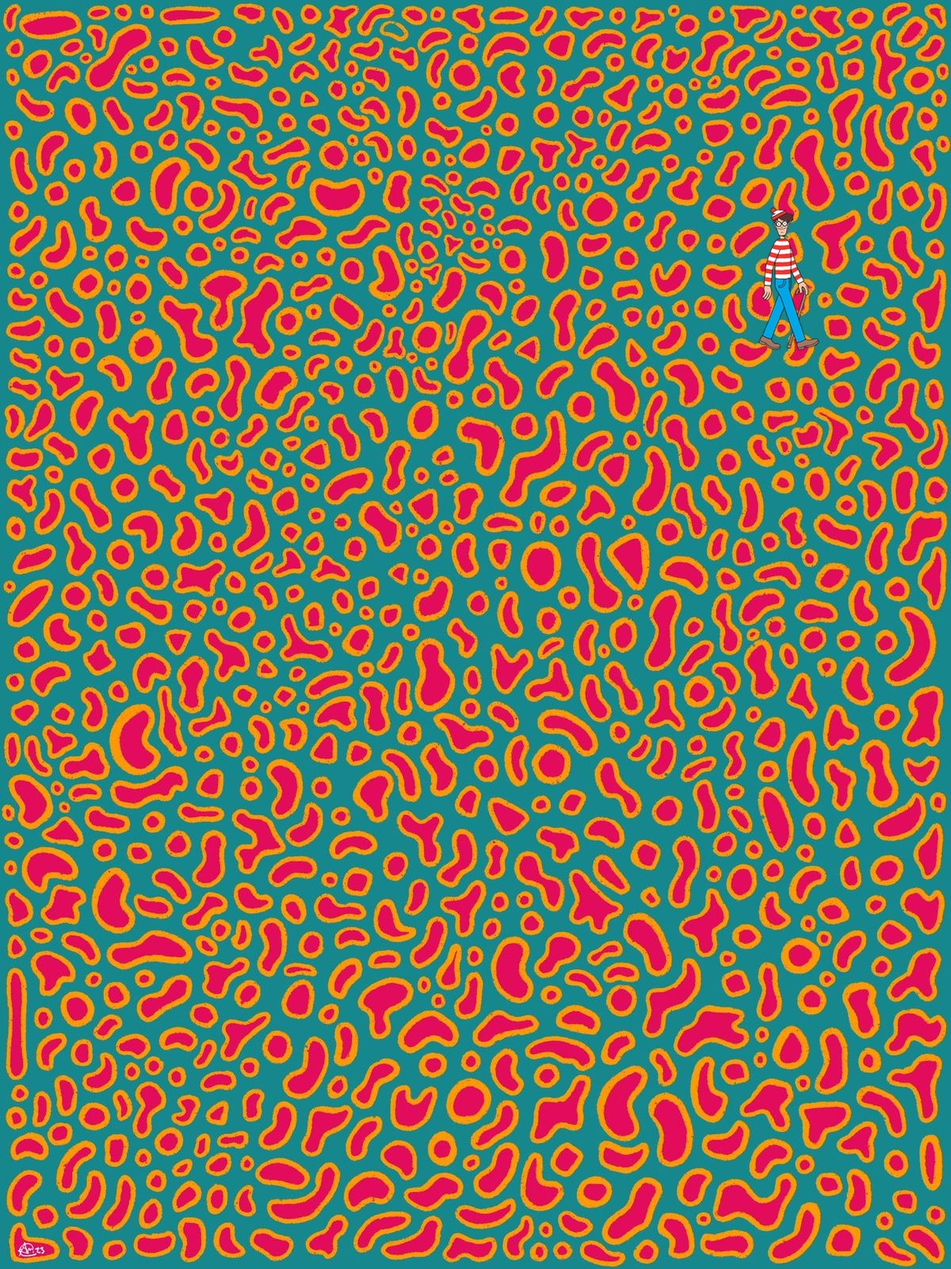waldo: (758, 207, 819, 350)
